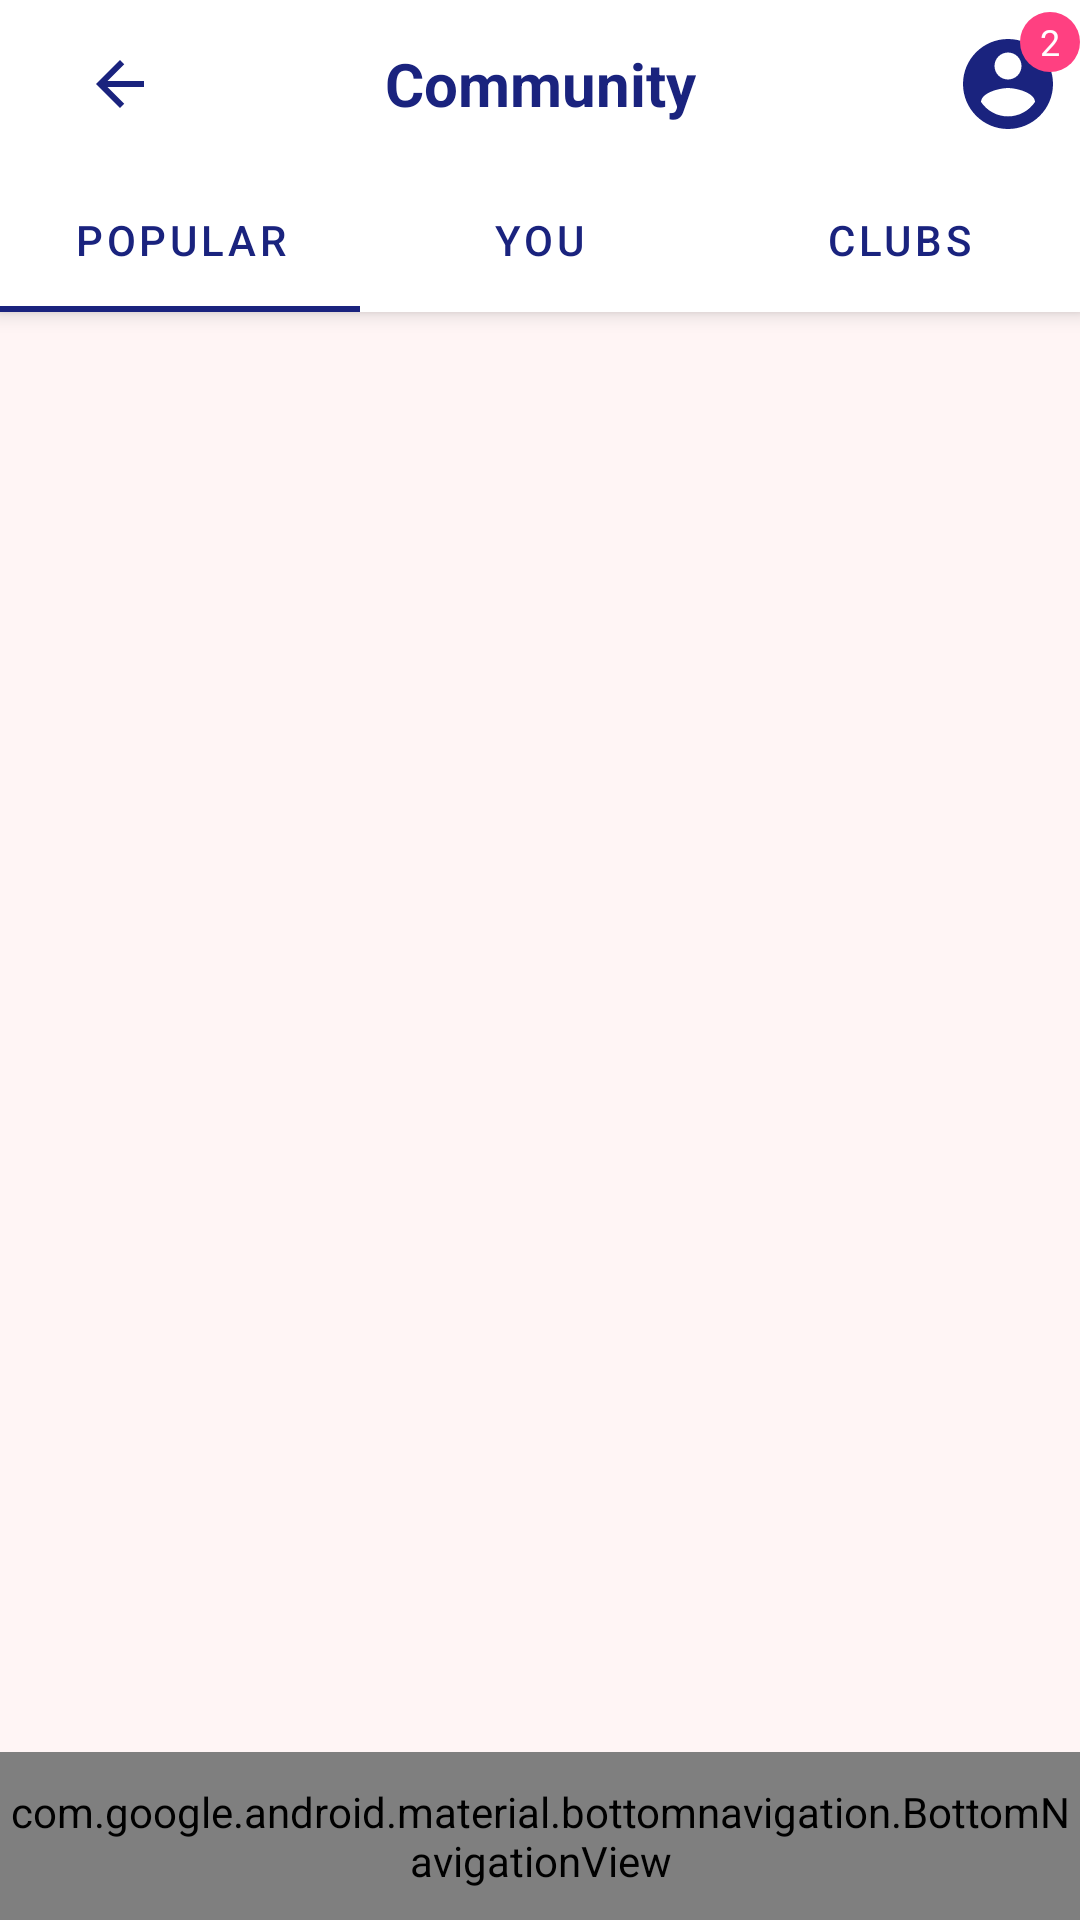

Named icons in this screenshot (1080×1920) and their bounding boxes, [left=x1, top=y1, right=x2, bottom=y2]:
Back: [left=96, top=60, right=144, bottom=108]
Profile: [left=963, top=30, right=1062, bottom=129]
